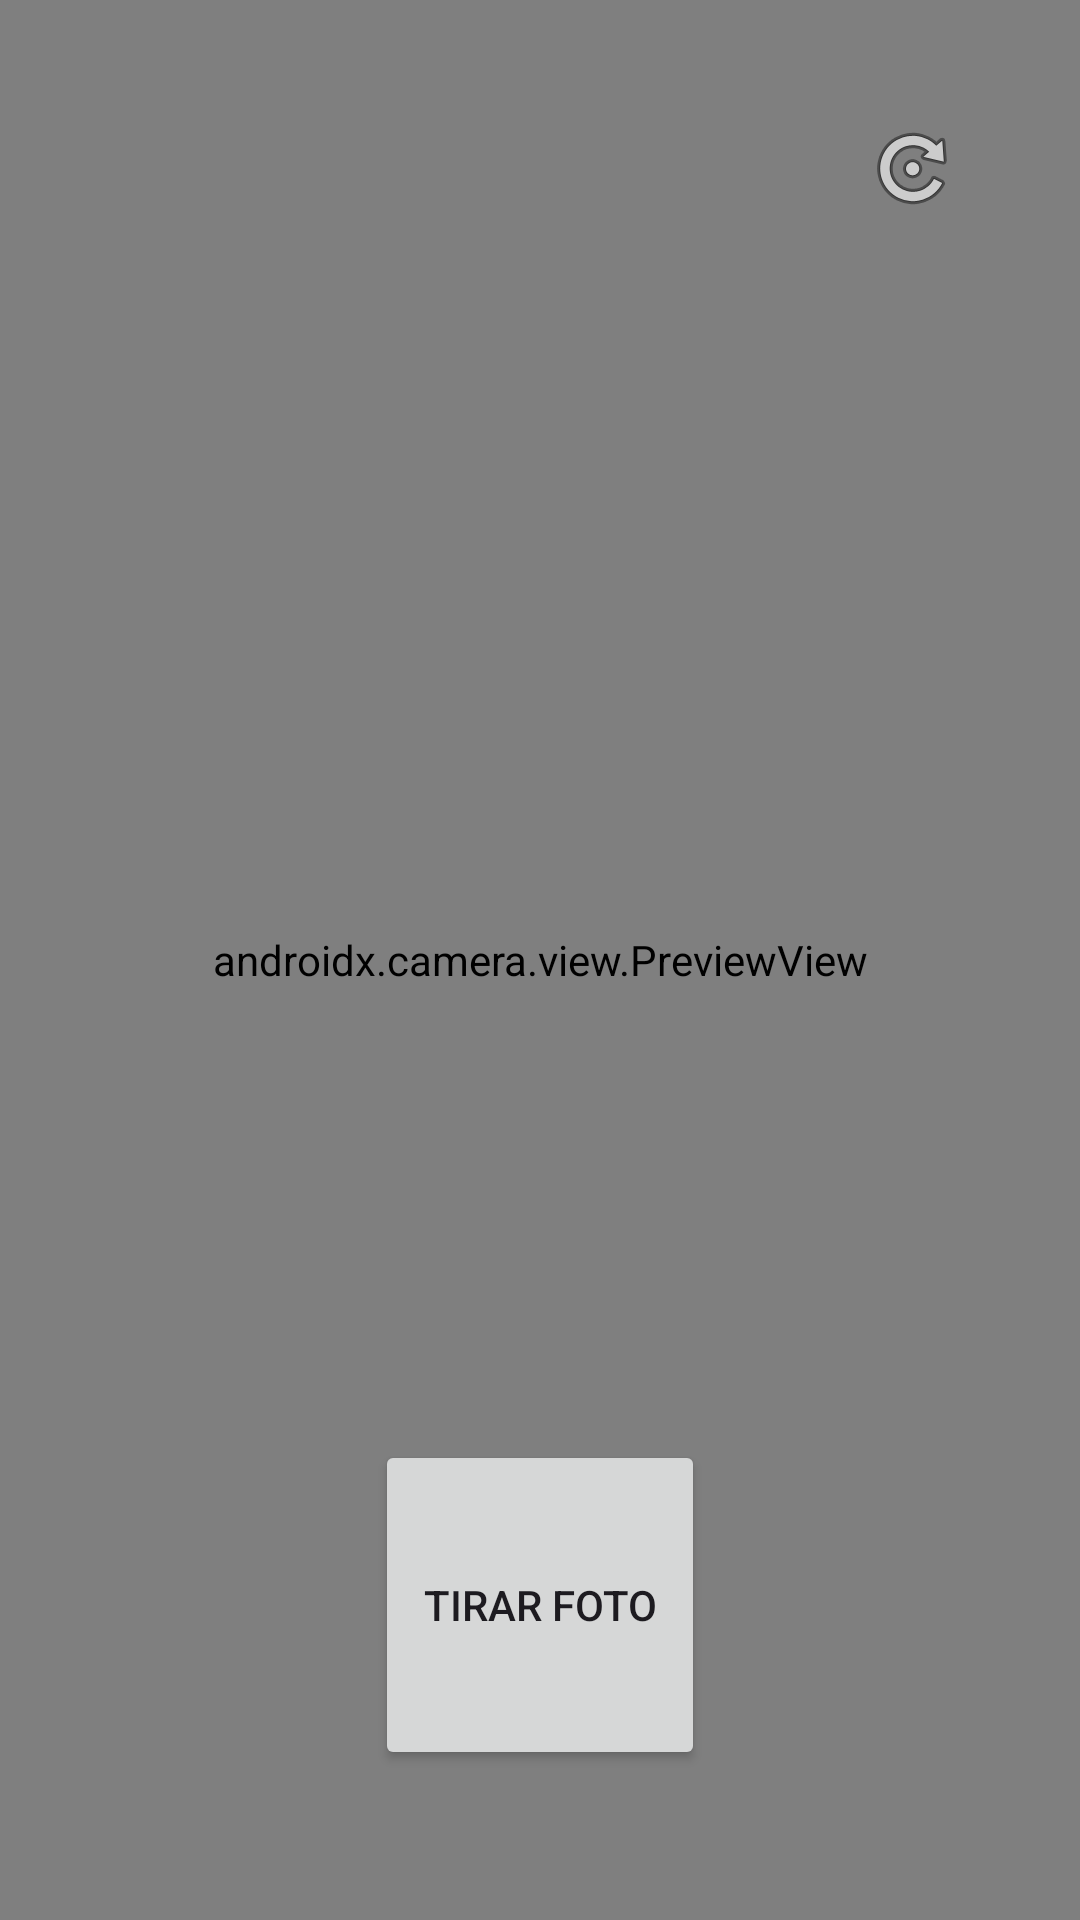

Screen size 1080w x 1920h. Icon name, then its center in pixels as (x=x, y=y):
Trocar câmera: (x=912, y=168)
